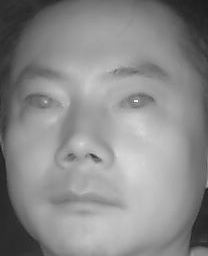eye: (115, 88, 158, 113), (24, 89, 65, 112)
mouth: (48, 177, 123, 220)
